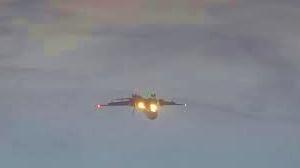Plane: (98, 77, 195, 130)
